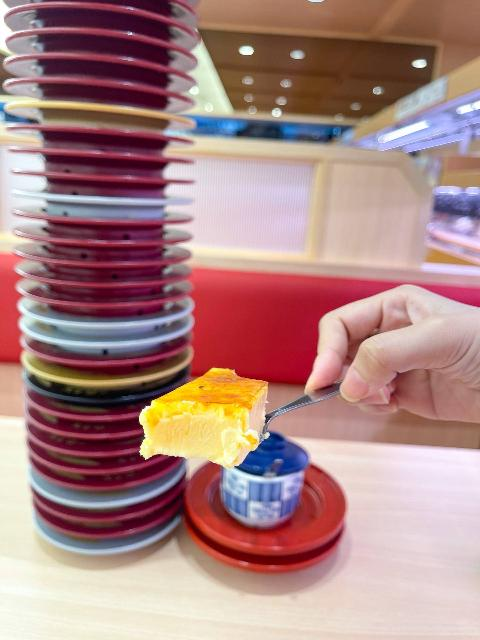janback: (17, 379, 167, 406)
jangold: (0, 99, 187, 129), (27, 367, 182, 387)
janred: (186, 499, 333, 545), (0, 30, 204, 62), (2, 56, 194, 90), (0, 6, 200, 38), (0, 78, 197, 106), (0, 122, 194, 150), (4, 167, 193, 195), (7, 148, 188, 176), (180, 543, 339, 574), (20, 345, 185, 369), (26, 393, 149, 424), (26, 416, 158, 444), (21, 453, 175, 473), (39, 500, 150, 526), (14, 436, 142, 458), (19, 472, 170, 490), (12, 0, 201, 13), (47, 522, 159, 543)
janwhite: (4, 186, 190, 222), (17, 320, 176, 353), (9, 248, 197, 275), (16, 282, 182, 312), (8, 206, 190, 232), (22, 264, 189, 289), (13, 228, 194, 251), (19, 312, 184, 331), (18, 537, 162, 557), (36, 490, 166, 510)
